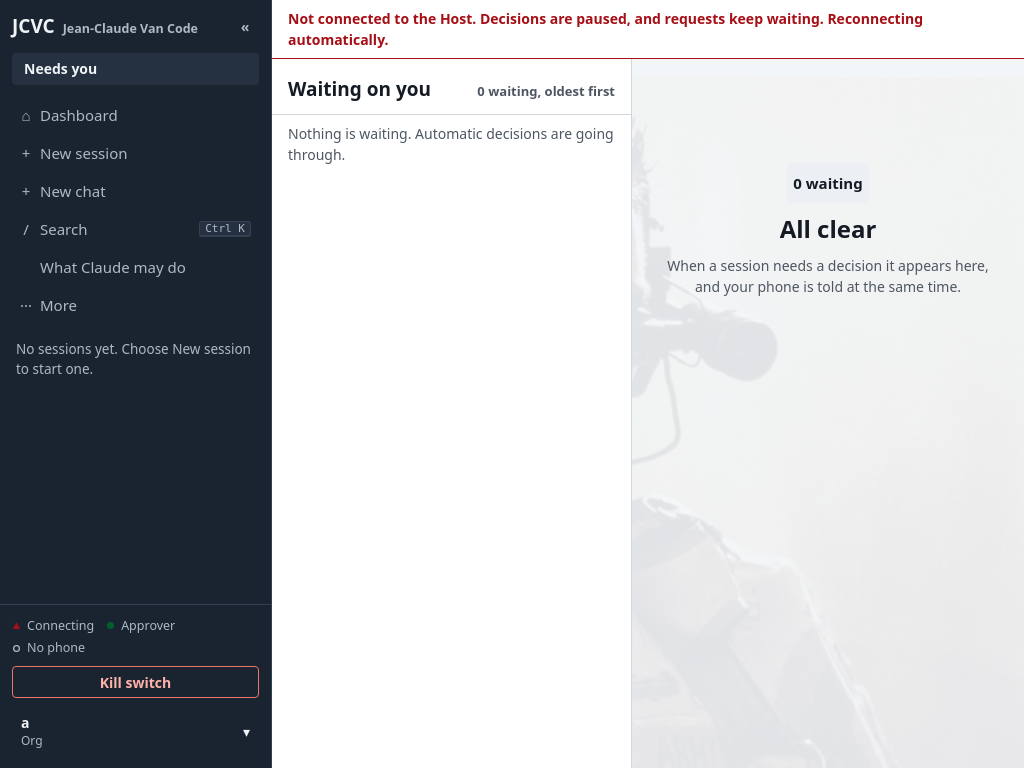
Jean-Claude mode › is always on, and the profile menu switches only between its light and dark versions
What coordinates should you click on to do the following:
click the button with aria-label "Your profile and settings"
I would click on:
 (136, 731)
Its box is [12,706,259,756].
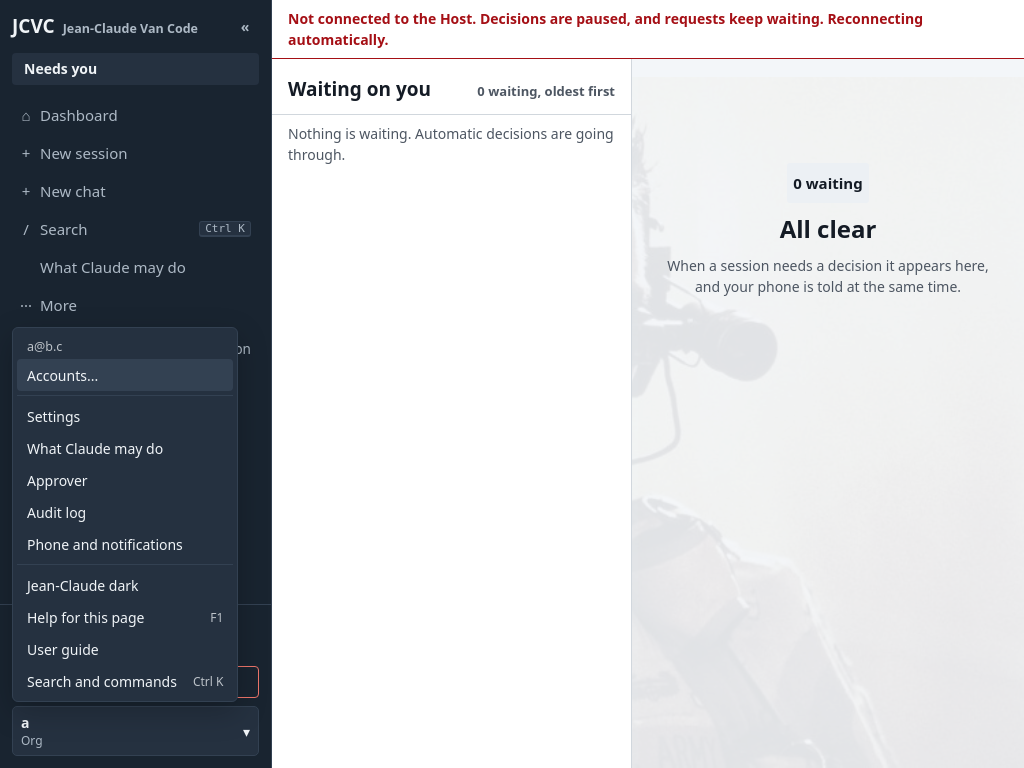
What coordinates should you click on to do the following:
click the menu item "Jean-Claude dark"
I would click on:
 (125, 585)
Its box is [17,569,233,601].
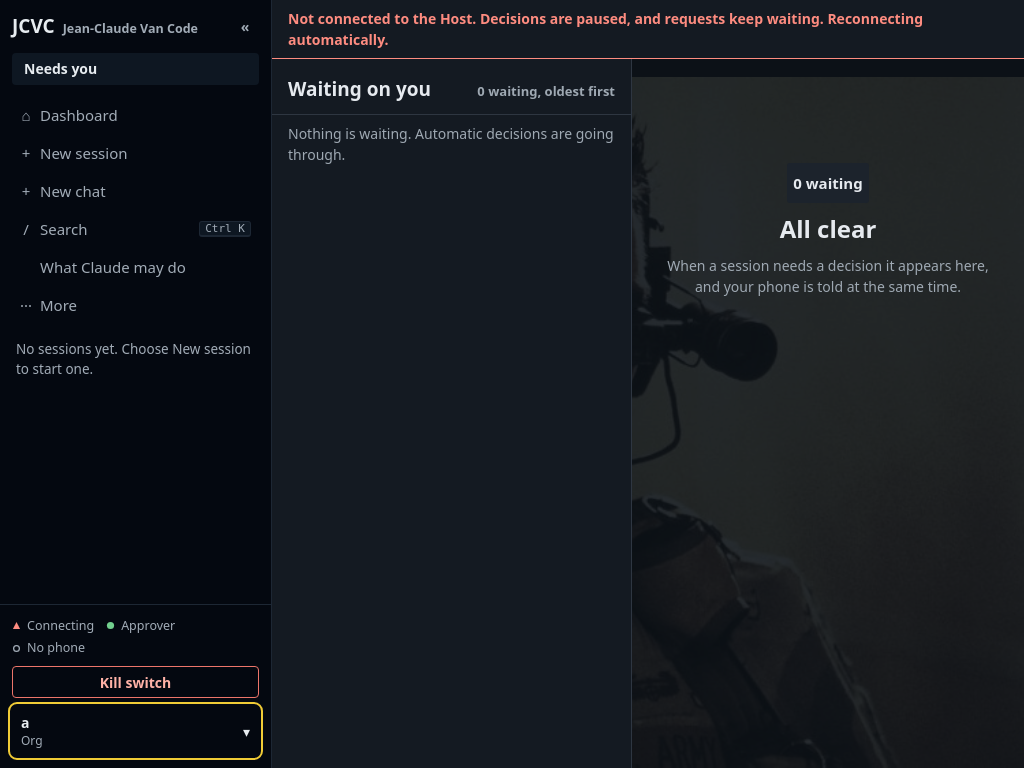
What coordinates should you click on to do the following:
click the button with aria-label "Your profile and settings"
I would click on:
 (136, 731)
Its box is [12,706,259,756].
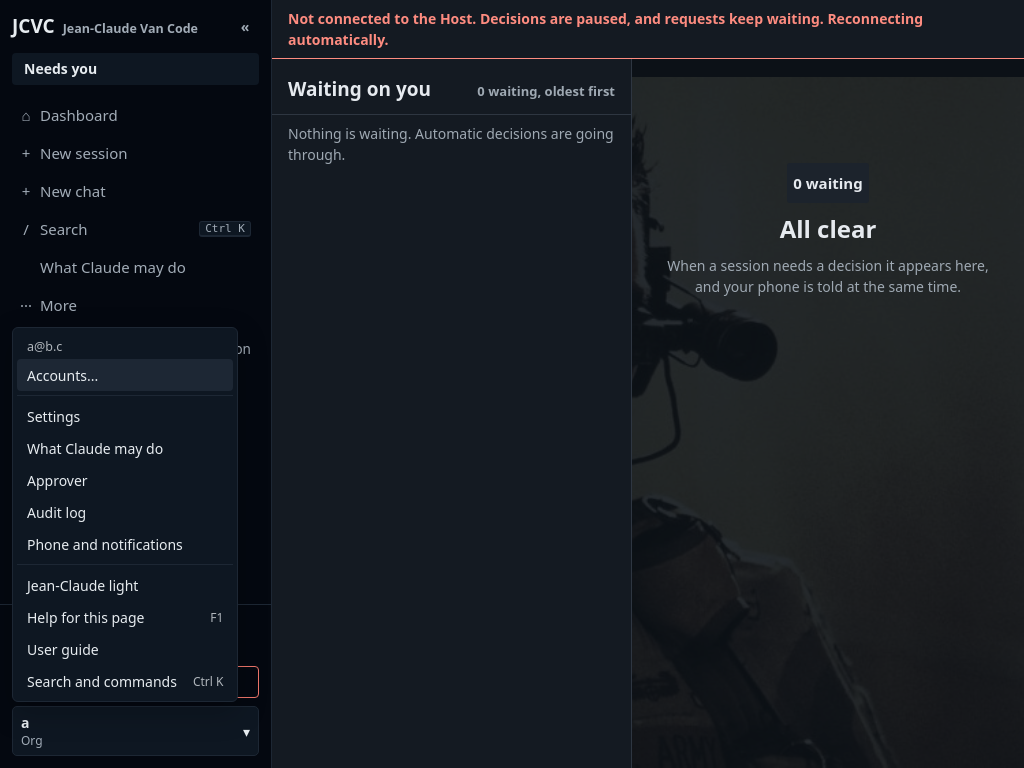
Expected: the menu item "Jean-Claude light" is shown, [17,569,233,601]
